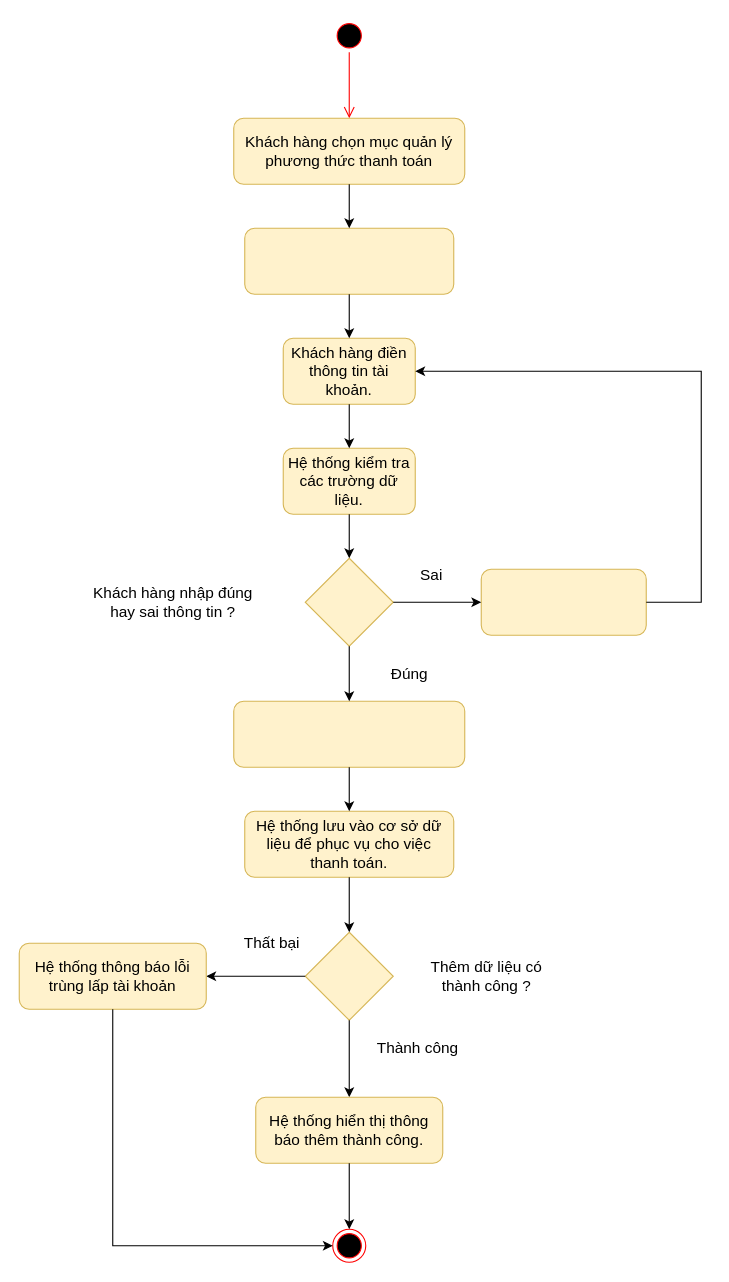
Image size: 729x1282. Some labels were removed from this diagram. The shapes that lost their labels are listed below. From the top down, each one's centre as x and y in pixels, then its label:
At point (349, 260): "Hệ thống hiển thị các phương thức thanh toán.".
At point (563, 601): "Hệ thống báo lỗi".
At point (349, 733): "Khách hàng nhấn “Save payment method” .".
